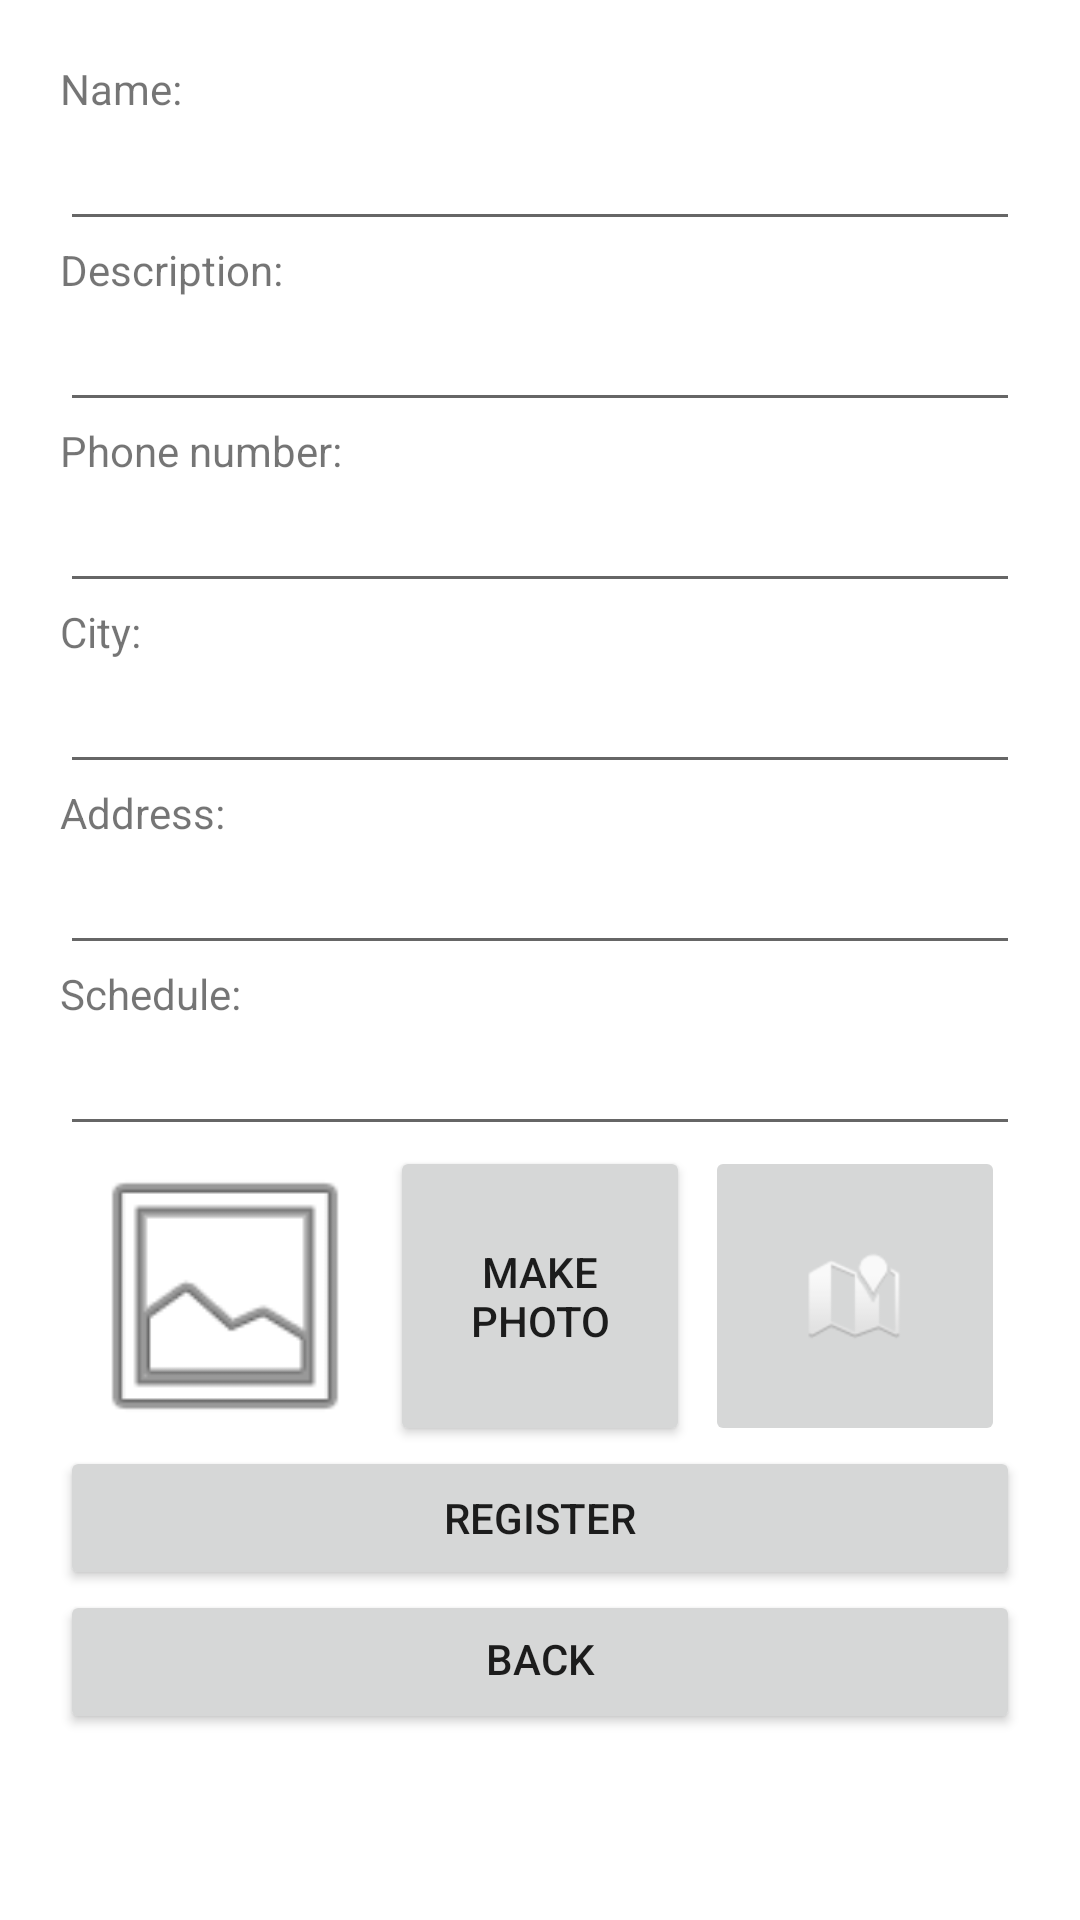

Icons on this 1080×1920 Android screen, each with its box as {"x1": x1, "y1": y1, "x2": x2, "y2": y2}:
gallery: {"x1": 112, "y1": 1183, "x2": 338, "y2": 1409}
